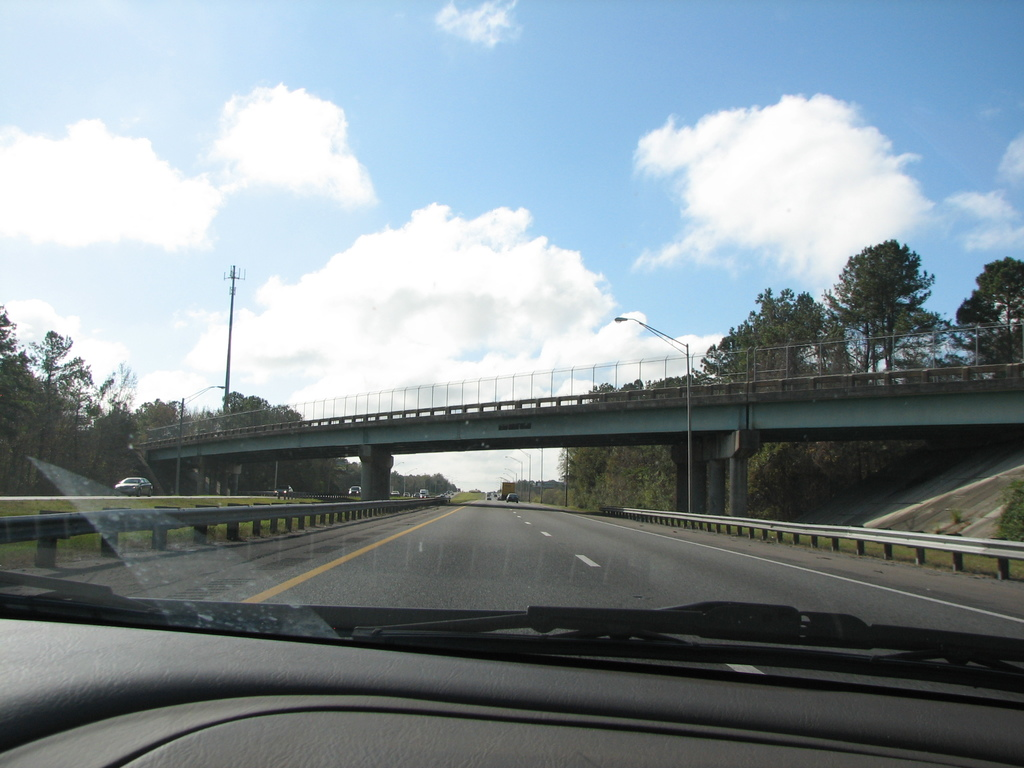Car: (112, 477, 152, 497), (504, 494, 518, 504), (272, 486, 291, 493), (348, 486, 359, 495)
